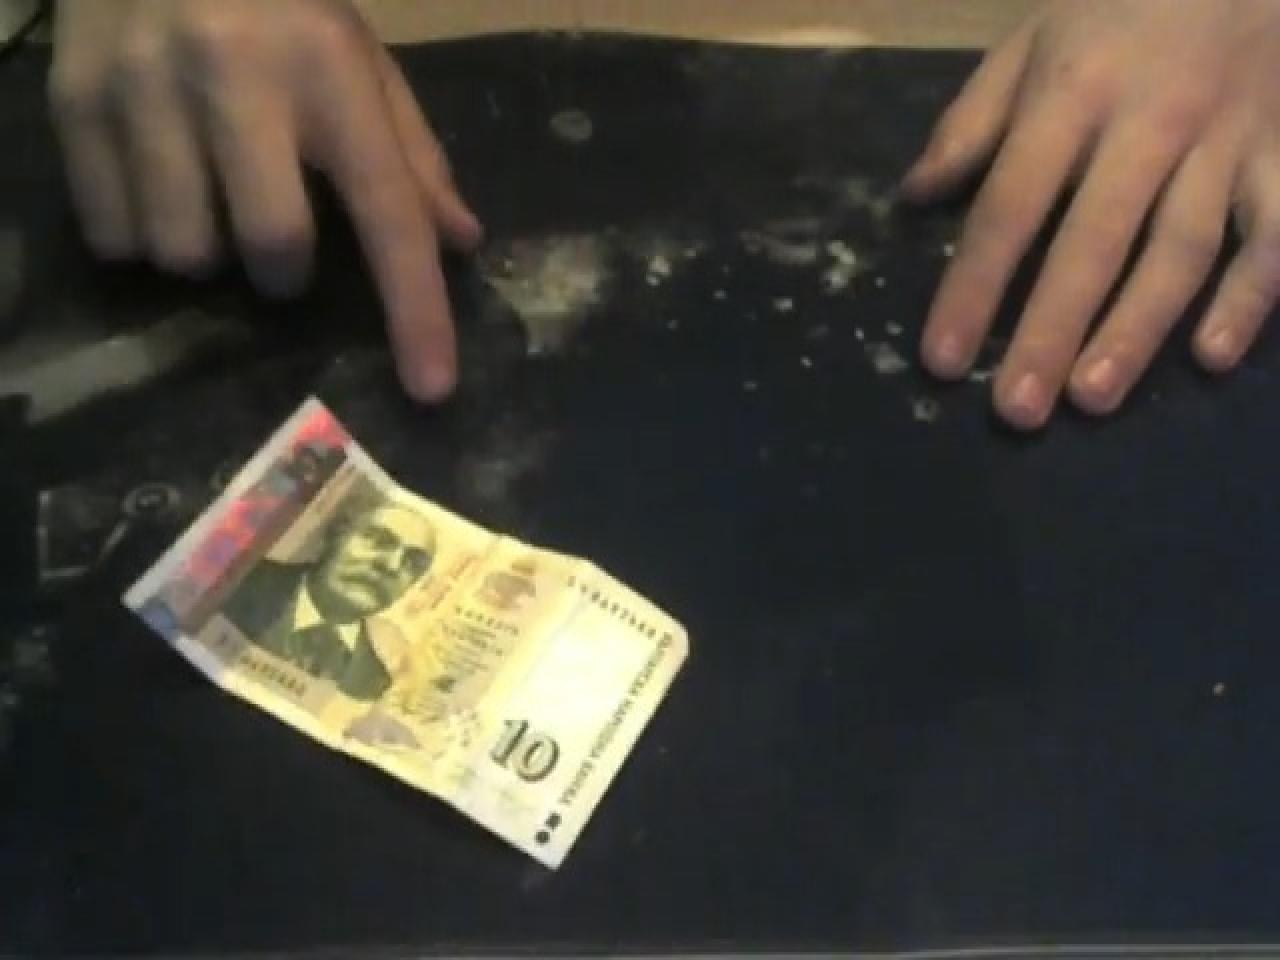10leva: (229, 509, 423, 699), (481, 698, 571, 806)
